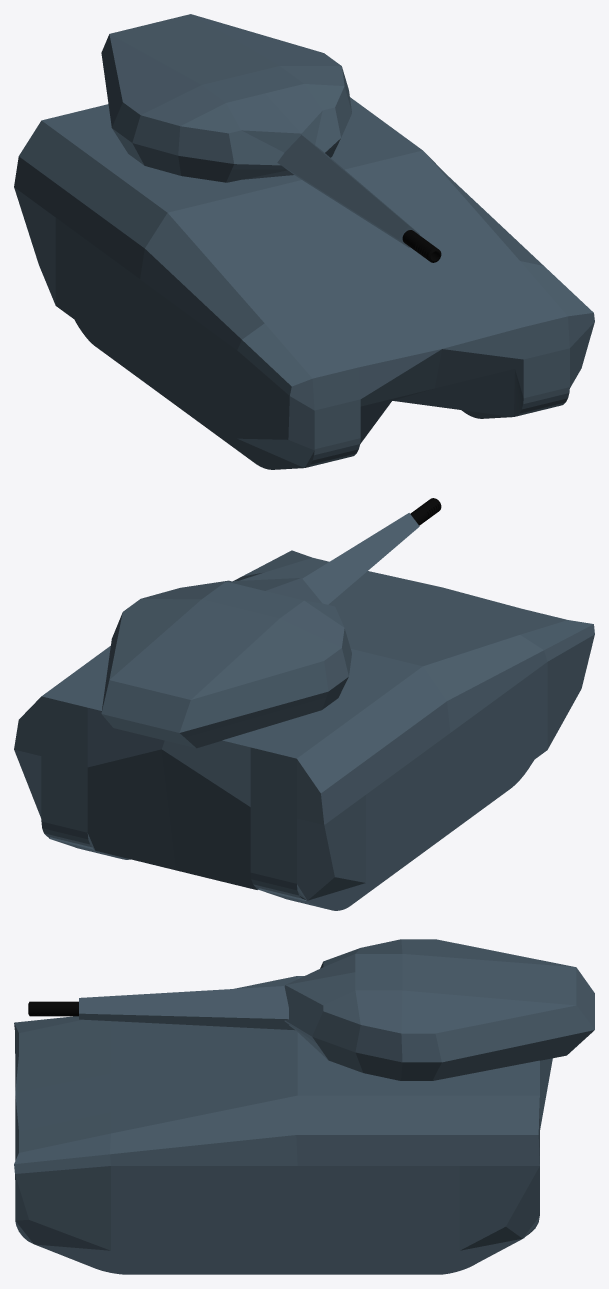
3 renders of one model, top to bottom at view 1: azimuth 30°, elevation 25°; view 2: azimuth 150°, elevation 25°; view 3: azimuth 270°, elevation 25°, orthographic. The views are drawn at different scales.
Parts seen in each view (by area): view 1: Cube, Куб, Куб.001, Цилиндр; view 2: Cube, Куб, Куб.001; view 3: Cube, Куб, Куб.001, Цилиндр.
Boxes of the visible parts, x1,y1,x2,y2 form: Cube: (14,97,594,469); Куб: (101,14,351,182); Куб.001: (277,135,419,247); Цилиндр: (402,230,441,262); Cube: (14,550,594,910); Куб: (101,578,351,748); Куб.001: (302,513,419,604); Cube: (14,976,552,1274); Куб: (284,939,594,1080); Куб.001: (79,986,294,1030); Цилиндр: (28,1001,78,1016).
Bounding box in the file's own units: 438 × 341 × 740.
